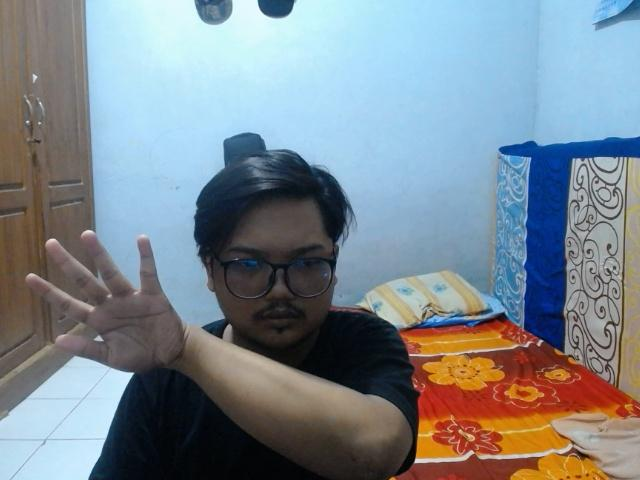Release: (21, 224, 191, 380)
